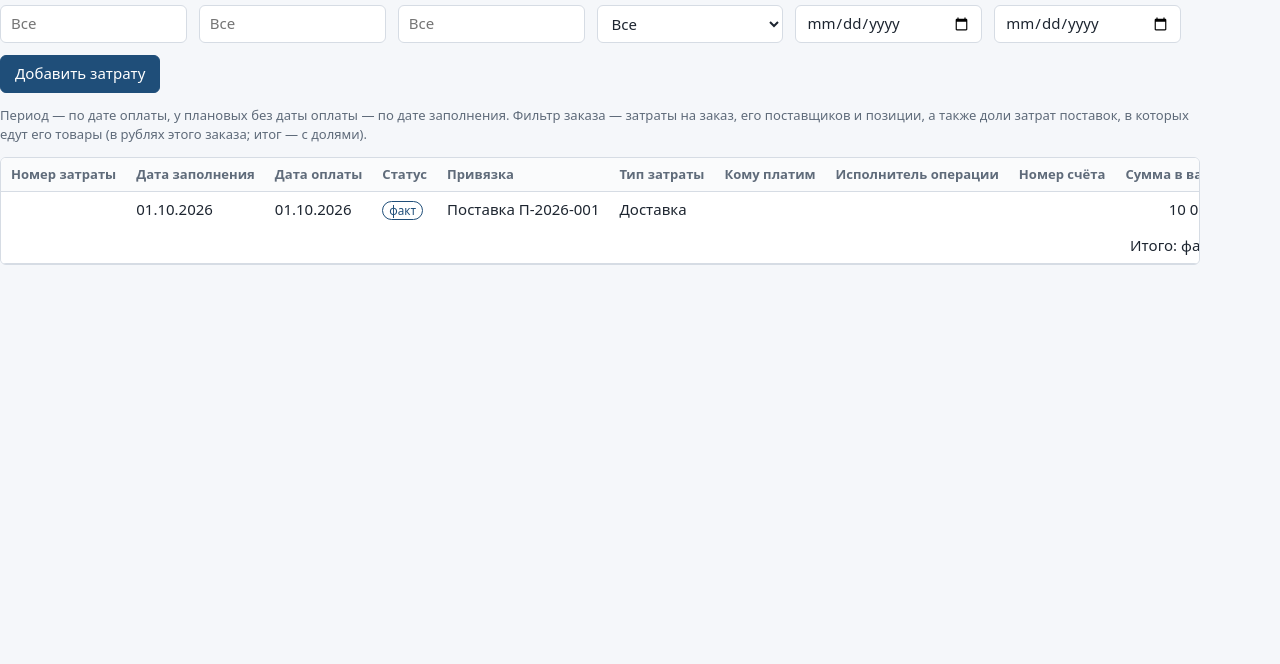
разбивка затраты поставки по заказам в форме (G31) › сохранённая затрата — без пометки «предварительно»
Click the text "Доставка". click: (640, 210)
box: [1,192,1279,228]
(page scrolled)
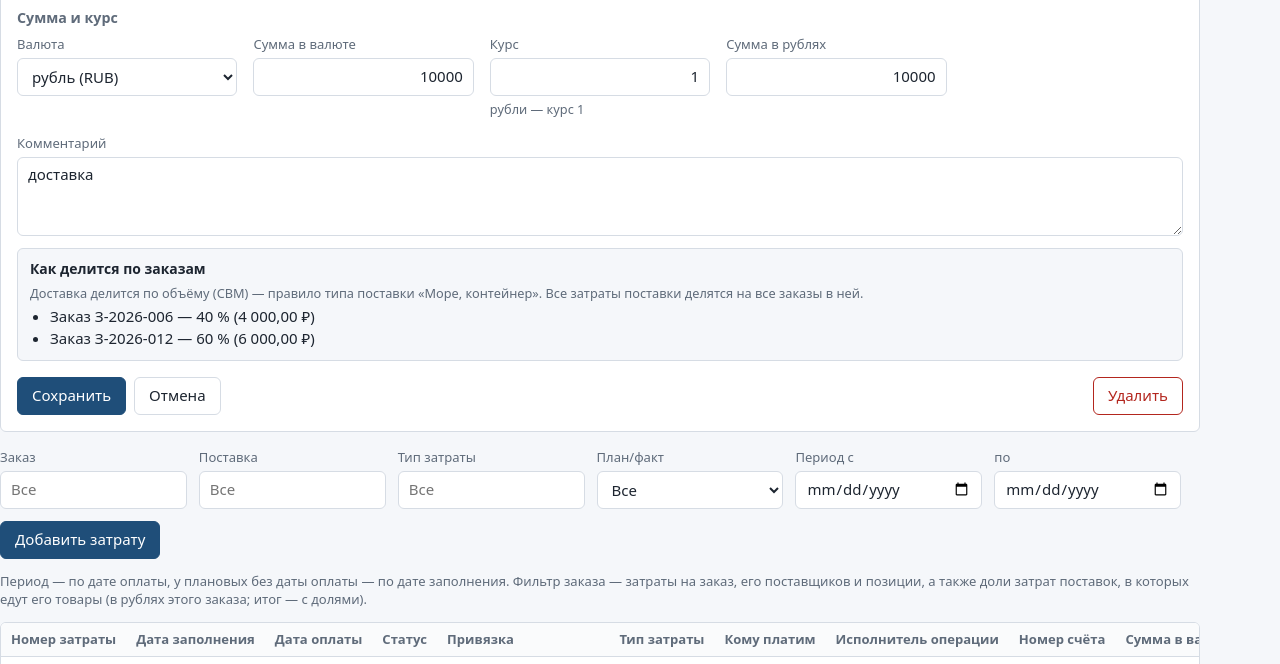
Result: the element "Как делится по заказам" shows "З-2026-012 — 60 %" at [17,248,1183,361]
